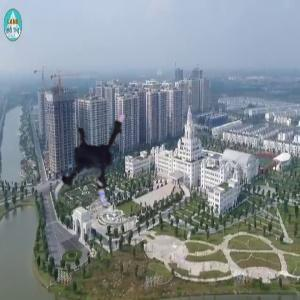drone: (41, 109, 158, 226)
